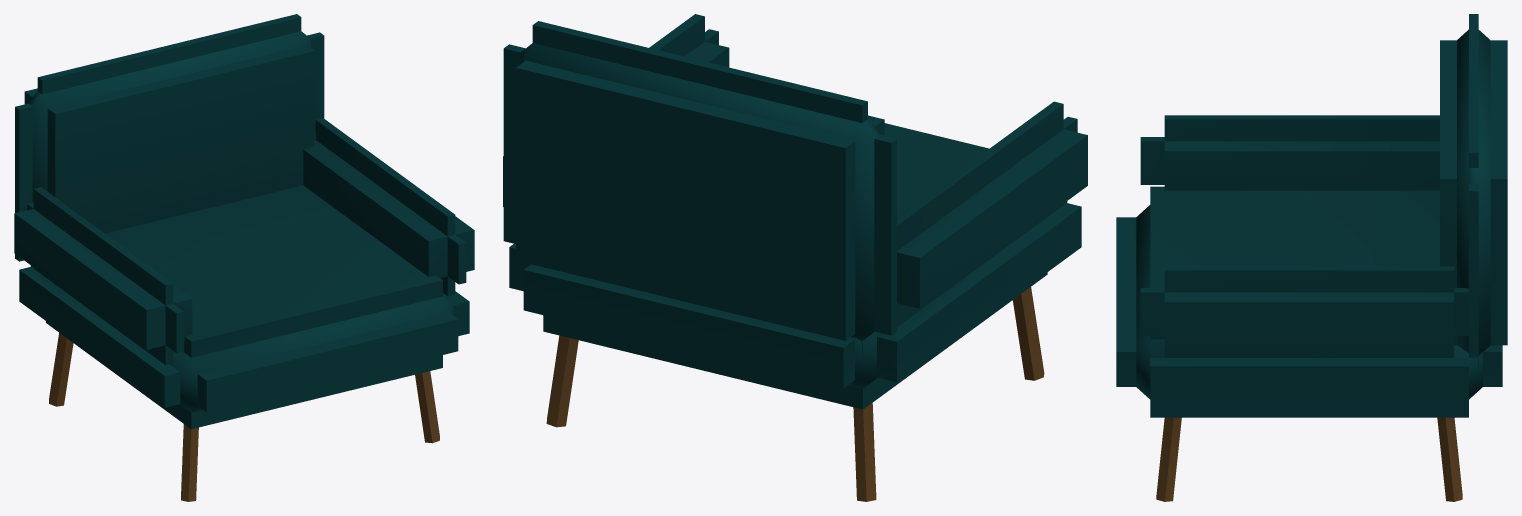
Rendered from ap-lounge-chair.glb.
The picture shows the model from 3 angles, left to right: view 1: azimuth 30°, elevation 25°; view 2: azimuth 150°, elevation 25°; view 3: azimuth 270°, elevation 25°; orthographic projection. The views are drawn at different scales.
Parts seen in each view (by area): view 1: upholstery__fabric, legs__wood; view 2: upholstery__fabric, legs__wood; view 3: upholstery__fabric, legs__wood.
Boxes of the visible parts, x1,y1,x2,y2 form: upholstery__fabric: [14, 14, 474, 429]; legs__wood: [49, 333, 439, 501]; upholstery__fabric: [503, 14, 1087, 409]; legs__wood: [546, 287, 1044, 501]; upholstery__fabric: [1116, 14, 1507, 417]; legs__wood: [1156, 417, 1462, 501].
Size of the model in its own units: 0.86 by 0.8027 by 0.81.
